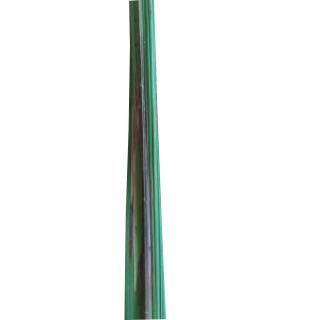Hawar-Daun: (128, 0, 162, 320)
